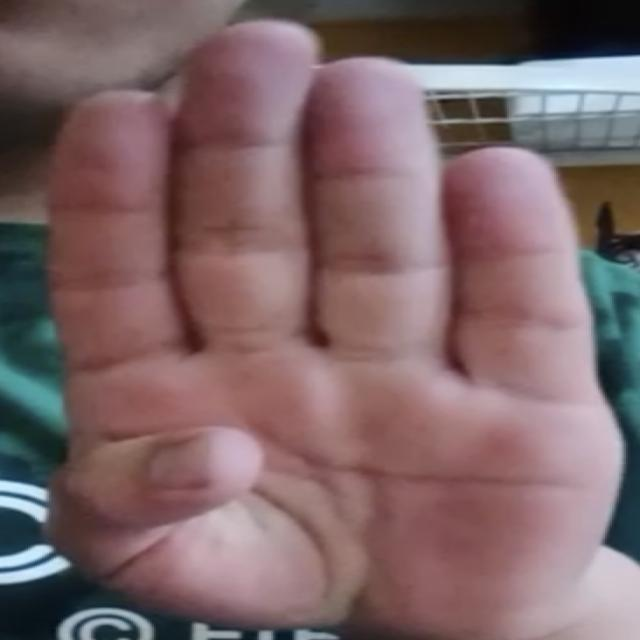B: (26, 16, 631, 638)
